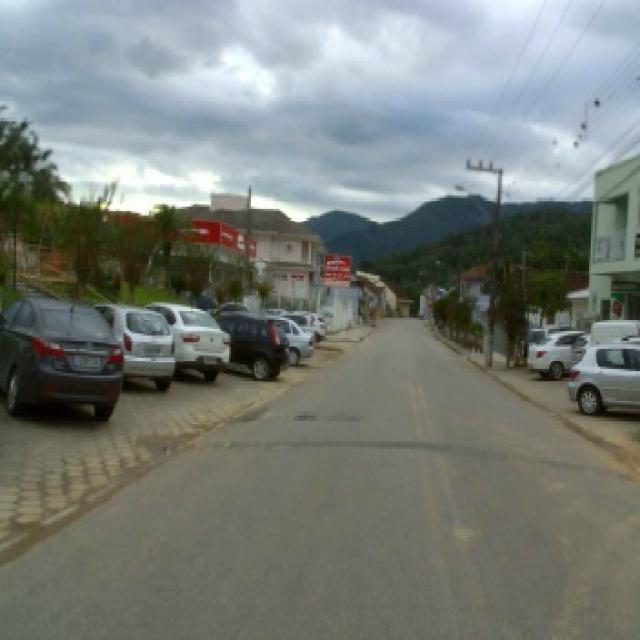Poth-hole: (293, 411, 322, 420), (160, 442, 178, 456)
